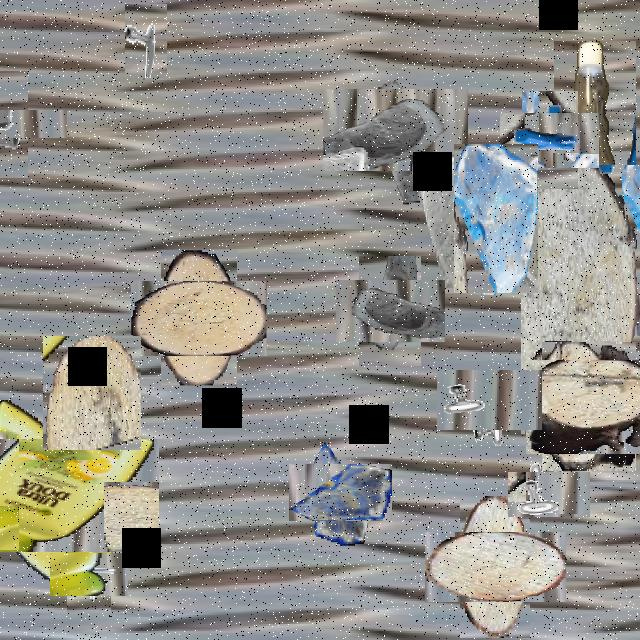glass: (338, 73, 452, 187), (454, 144, 538, 293), (410, 155, 484, 286), (347, 268, 433, 354), (301, 452, 381, 533)
metal: (448, 358, 530, 442), (511, 102, 589, 179), (517, 462, 581, 526), (59, 544, 120, 604), (0, 90, 47, 158), (125, 4, 167, 78), (0, 453, 21, 535)
plastic: (554, 41, 636, 393), (0, 416, 136, 575)
wood: (521, 166, 640, 436), (533, 351, 640, 462), (442, 514, 548, 620), (146, 265, 252, 371), (43, 336, 141, 450)
